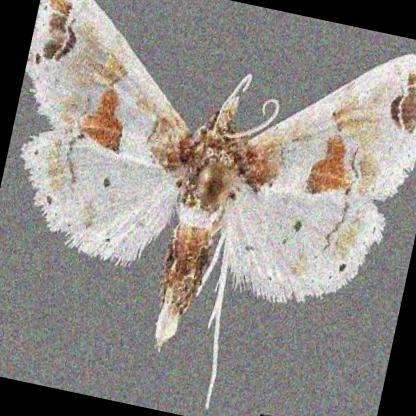leucinodes: (25, 0, 416, 343)
